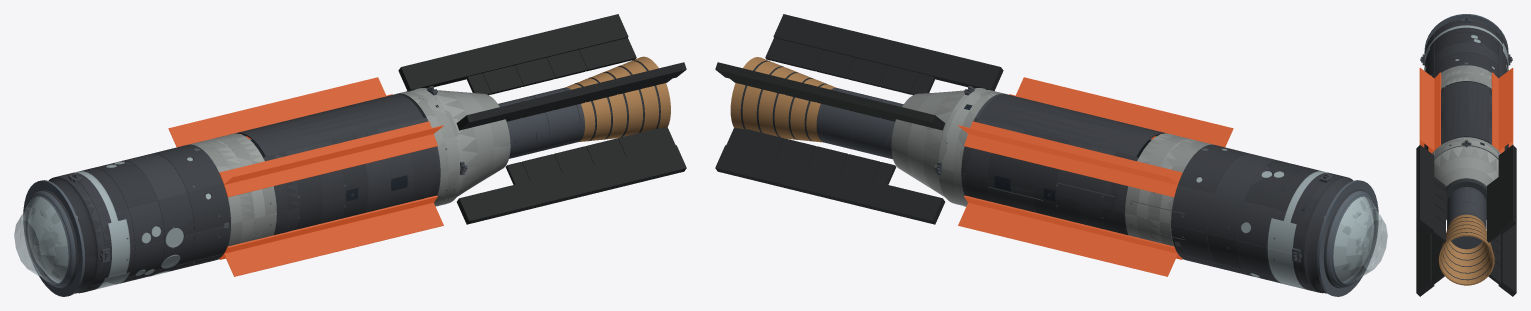
Rendered from wayfarer_exterior_detail_88ce19fc_metric_hard_stowed.glb.
3 views of the same model, side by side, from view 1: azimuth 30°, elevation 25°; view 2: azimuth 150°, elevation 25°; view 3: azimuth 270°, elevation 25° (orthographic). The views are drawn at different scales.
Visible parts, largest first — view 1: dry:armor, dry:skin_midship, dry:hotfin_220:folded_envelope, dry:hotfin_40:folded_envelope, dry:strake_220:extended_pleat_00, dry:nozzle, dry:strake_140:stowed_stack, dry:strake_40:extended_pleat_00, dry:skin_service, dry:door_port, dry:hotfin_root_40:root, dry:thrust_cone (+15 smaller); view 2: dry:armor, dry:skin_midship, dry:hotfin_320:folded_envelope, dry:hotfin_140:folded_envelope, dry:strake_320:extended_pleat_00, dry:nozzle, dry:strake_40:stowed_stack, dry:strake_140:extended_pleat_00, dry:skin_service, dry:hotfin_root_140:root, dry:door_starboard, dry:thrust_cone (+17 smaller); view 3: dry:armor, dry:nozzle, dry:thrust_cone, dry:hotfin_40:folded_envelope, dry:hotfin_140:folded_envelope, dry:reactor, dry:door_port, dry:door_starboard, dry:strake_40:extended_pleat_00, dry:strake_140:extended_pleat_00, dry:hotfin_220:folded_envelope, dry:hotfin_320:folded_envelope (+14 smaller).
Part boxes in pixels (x1,y1,x2,y2): dry:armor: [25, 144, 230, 292]; dry:skin_midship: [263, 117, 440, 235]; dry:hotfin_220:folded_envelope: [457, 145, 686, 224]; dry:hotfin_40:folded_envelope: [398, 14, 628, 90]; dry:strake_220:extended_pleat_00: [224, 202, 443, 276]; dry:nozzle: [565, 56, 670, 142]; dry:strake_140:stowed_stack: [219, 121, 437, 197]; dry:strake_40:extended_pleat_00: [168, 77, 385, 147]; dry:skin_service: [187, 133, 276, 259]; dry:door_port: [250, 98, 423, 156]; dry:hotfin_root_40:root: [466, 38, 636, 94]; dry:thrust_cone: [437, 90, 510, 196]; dry:armor: [1171, 144, 1376, 292]; dry:skin_midship: [961, 117, 1138, 235]; dry:hotfin_320:folded_envelope: [715, 145, 944, 224]; dry:hotfin_140:folded_envelope: [773, 14, 1003, 90]; dry:strake_320:extended_pleat_00: [958, 202, 1177, 276]; dry:nozzle: [730, 57, 836, 142]; dry:strake_40:stowed_stack: [964, 121, 1182, 197]; dry:strake_140:extended_pleat_00: [1016, 77, 1233, 147]; dry:skin_service: [1125, 133, 1214, 259]; dry:hotfin_root_140:root: [765, 38, 935, 94]; dry:door_starboard: [978, 98, 1151, 156]; dry:thrust_cone: [891, 90, 964, 197]; dry:armor: [1424, 19, 1508, 78]; dry:nozzle: [1438, 214, 1494, 285]; dry:thrust_cone: [1434, 146, 1498, 220]; dry:hotfin_40:folded_envelope: [1498, 145, 1516, 234]; dry:hotfin_140:folded_envelope: [1416, 145, 1434, 234]; dry:reactor: [1447, 187, 1486, 249]; dry:door_port: [1444, 82, 1466, 142]; dry:door_starboard: [1466, 82, 1488, 142]; dry:strake_40:extended_pleat_00: [1498, 68, 1513, 150]; dry:strake_140:extended_pleat_00: [1419, 68, 1434, 150]; dry:hotfin_220:folded_envelope: [1416, 224, 1434, 296]; dry:hotfin_320:folded_envelope: [1498, 224, 1516, 296].
Size of the model in its own units: 54.5 by 9.92 by 10.73.
